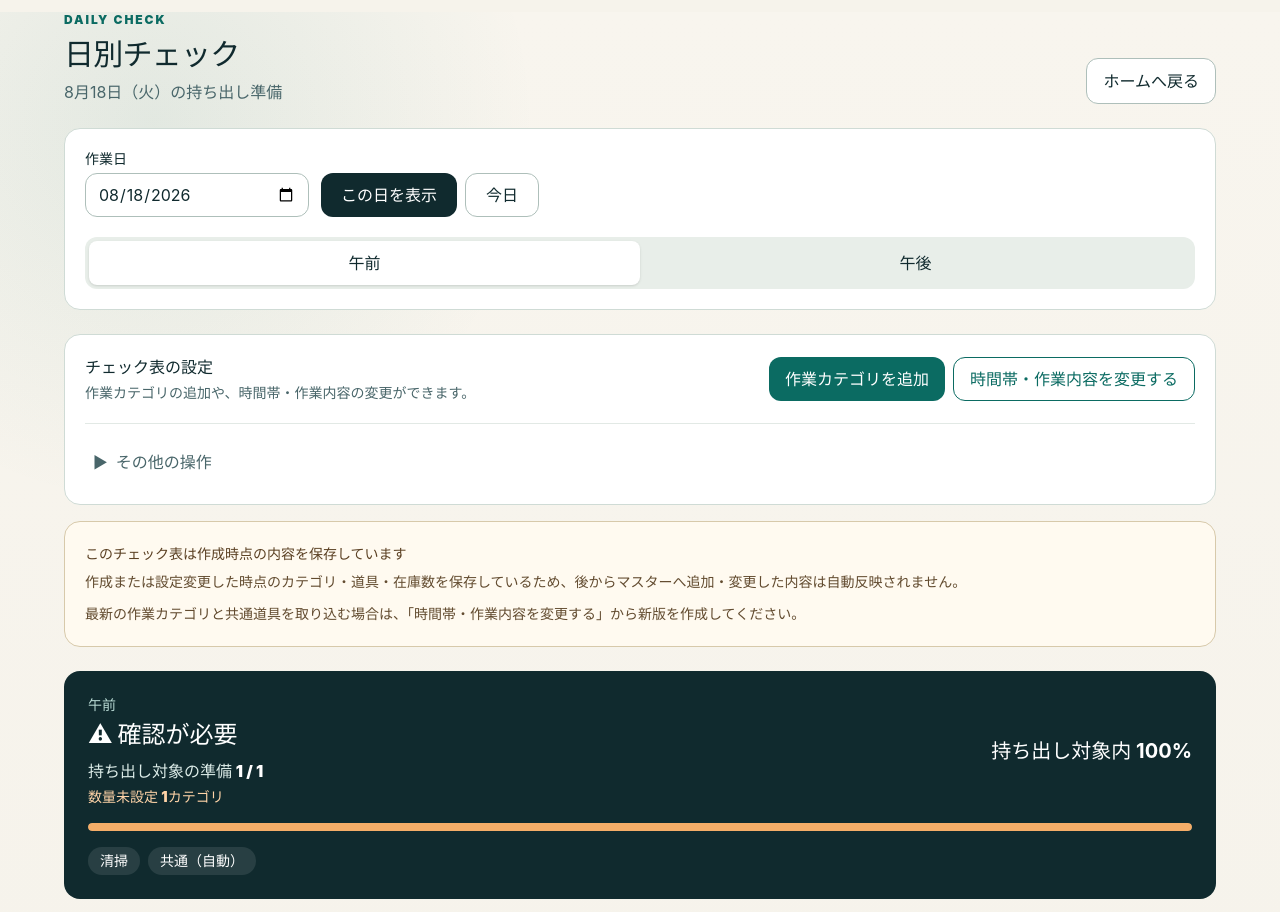
Test case: DailyChecklistView › 午前・午後を切り替えて独立したカテゴリと道具を表示する
Expected: the element "確認が必要" reads "午前 ⚠ 確認が必要 持ち出し対象の準備 1 / 1 数量未設定 1カテゴリ 持ち出し対象内 100% 清掃 共通（自動）", [64,671,1216,899]
Click the button "午後" at (916, 263), box [640,241,1191,285]
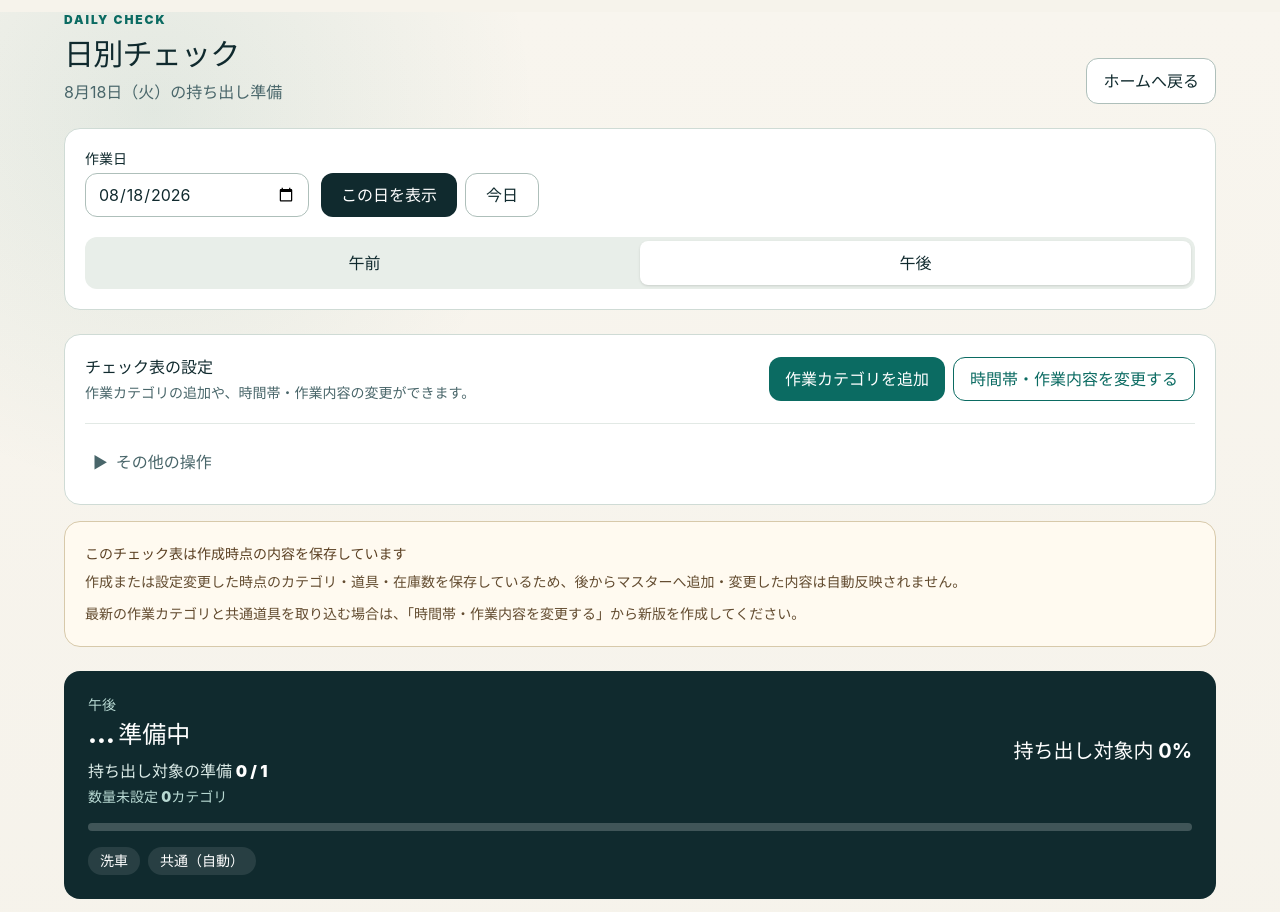
Result: the element "準備中" reads "午後 … 準備中 持ち出し対象の準備 0 / 1 数量未設定 0カテゴリ 持ち出し対象内 0% 洗車 共通（自動）" at [64,671,1216,899]
